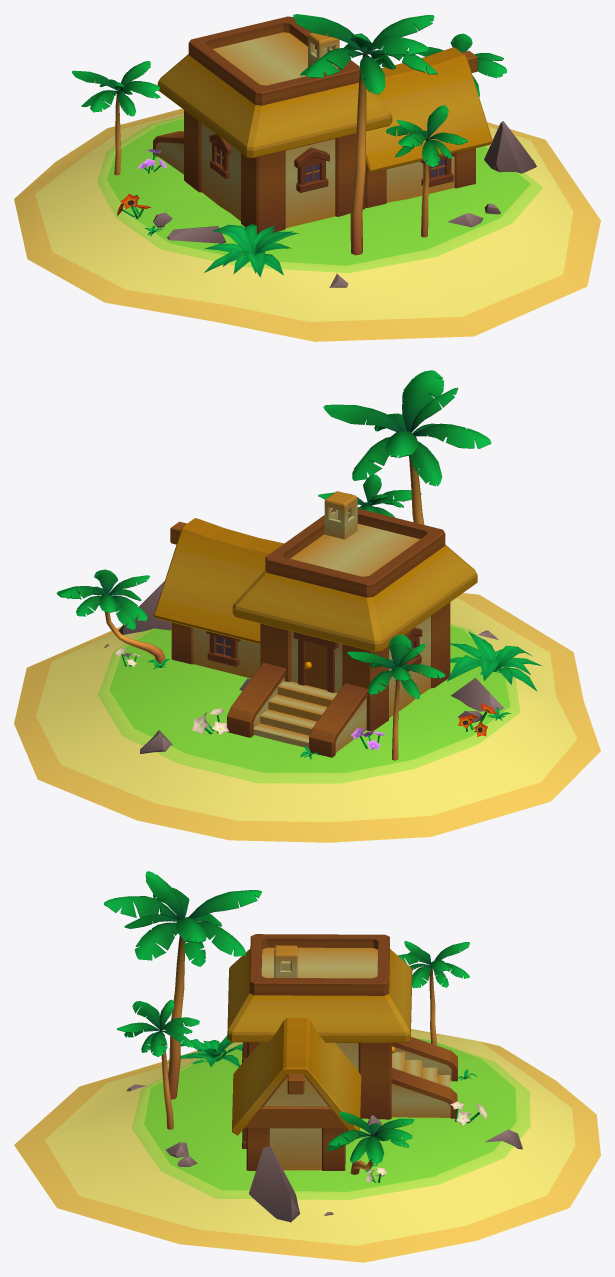
The model's file is ISLAND_HOUSE_B_01.obj.
3 views of the same model, one above another, from view 1: azimuth 30°, elevation 25°; view 2: azimuth 150°, elevation 25°; view 3: azimuth 270°, elevation 25° (orthographic). The views are drawn at different scales.
Visible parts, largest first — view 1: M_Island, Object001, Object002, Object003, B_Walls_2, B_Wood_01, roof001, Plant_01, PALM_TREE_A_TRUNK, B_Wood_04, B_Walls_1, B_Wood_02 (+15 smaller); view 2: M_Island, Object001, Object002, Object003, roof001, B_Stairs, Plant_01, B_Ramp_2, B_Ramp_1, B_Wood_02, B_Walls_2, B_Walls_1 (+14 smaller); view 3: M_Island, Object001, Object002, Object003, B_Walls_1, roof001, B_Wood_03, B_Wood_09, ramp003, PALM_TREE_A_TRUNK, B_Ramp_2, Leaf_Palm_Tree_A_010 (+12 smaller).
Boxes of the visible parts, x1,y1,x2,y2 form: M_Island: (14,108,600,341); Object001: (157,54,392,158); Object002: (366,47,492,173); Object003: (188,16,360,105); B_Walls_2: (202,123,335,228); B_Wood_01: (241,150,285,234); roof001: (213,32,307,85); Plant_01: (204,224,298,277); PALM_TREE_A_TRUNK: (350,52,367,255); B_Wood_04: (335,134,365,216); B_Walls_1: (386,156,454,202); B_Wood_02: (184,110,201,192); M_Island: (14,581,600,842); Object001: (232,544,477,652); Object002: (153,518,284,644); Object003: (265,508,445,597); roof001: (290,523,419,576); B_Stairs: (253,681,337,748); Plant_01: (447,631,542,691); B_Ramp_2: (227,662,286,737); B_Ramp_1: (309,683,368,757); B_Wood_02: (342,644,388,731); B_Walls_2: (291,616,430,717); B_Walls_1: (193,628,260,678); M_Island: (14,1029,600,1262); Object001: (227,949,412,1042); Object002: (232,1018,361,1135); Object003: (249,934,389,995); B_Walls_1: (264,1076,327,1170); roof001: (261,947,377,978); B_Wood_03: (358,1043,391,1119); B_Wood_09: (244,1106,347,1128); ramp003: (391,1083,450,1117); PALM_TREE_A_TRUNK: (168,935,185,1099); B_Ramp_2: (391,1067,457,1118); Leaf_Palm_Tree_A_010: (104,896,180,920).
Bounding box in the file's own units: 9.56 × 4.73 × 9.91.
Materials: 20 (20 with a texture image).
